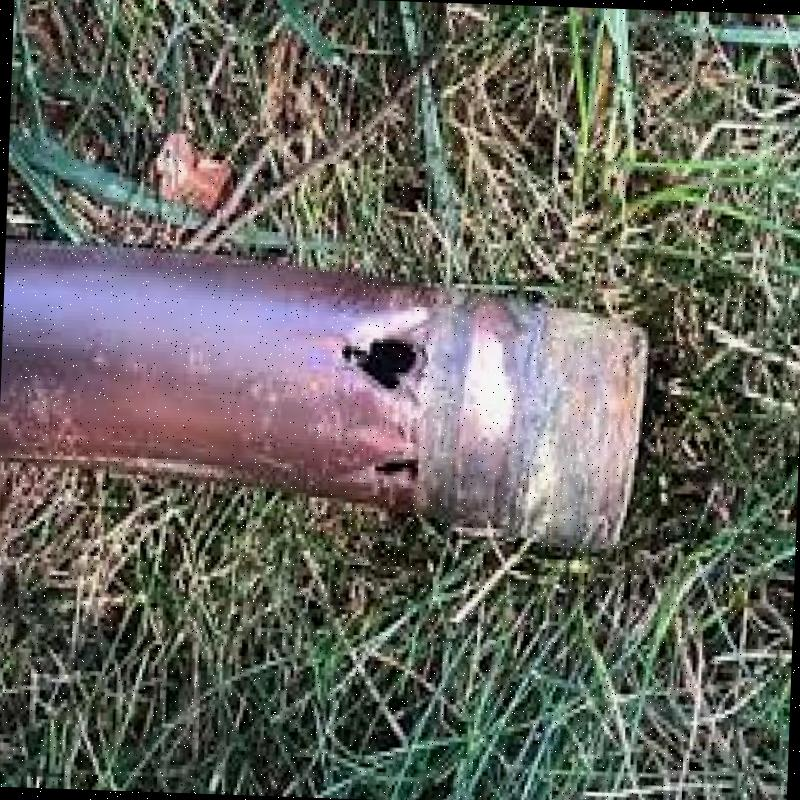Fracture: (356, 346, 422, 378)
